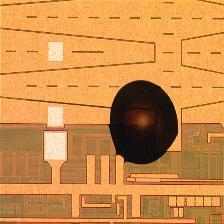PARTICLE: (107, 80, 183, 168)
